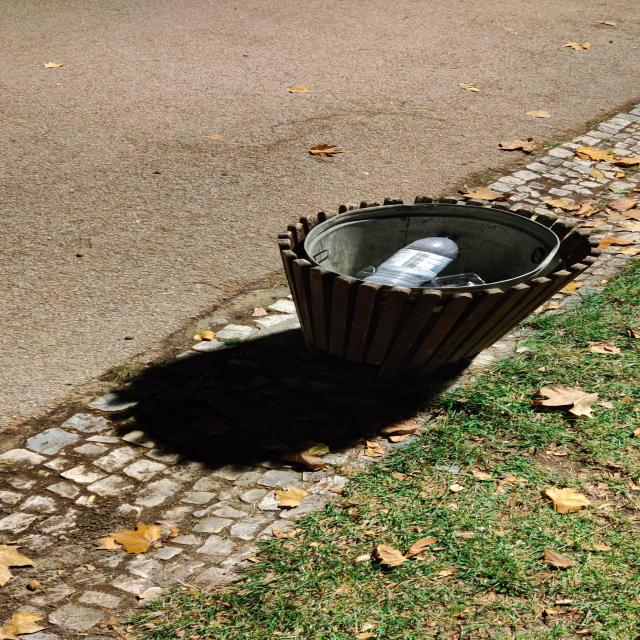litter: (353, 227, 480, 299)
